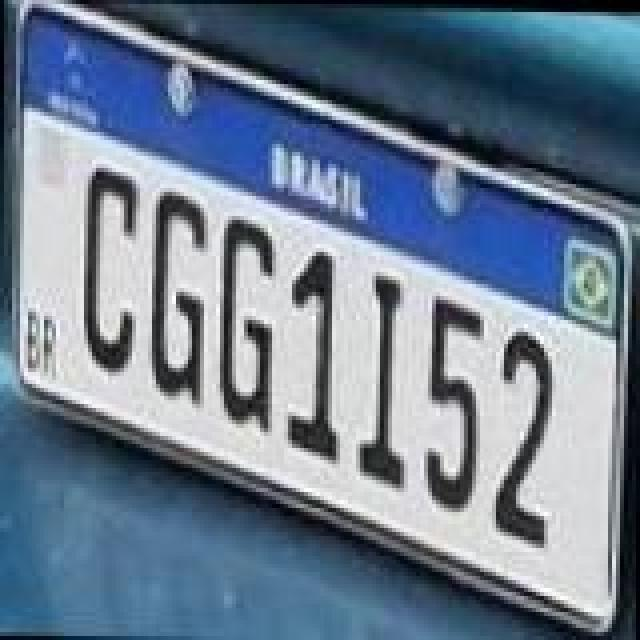1: (282, 248, 342, 464)
2: (492, 324, 560, 552)
5: (422, 292, 486, 516)
C: (82, 164, 142, 376)
G: (218, 208, 278, 432), (146, 186, 206, 406)
I: (356, 270, 412, 494)
